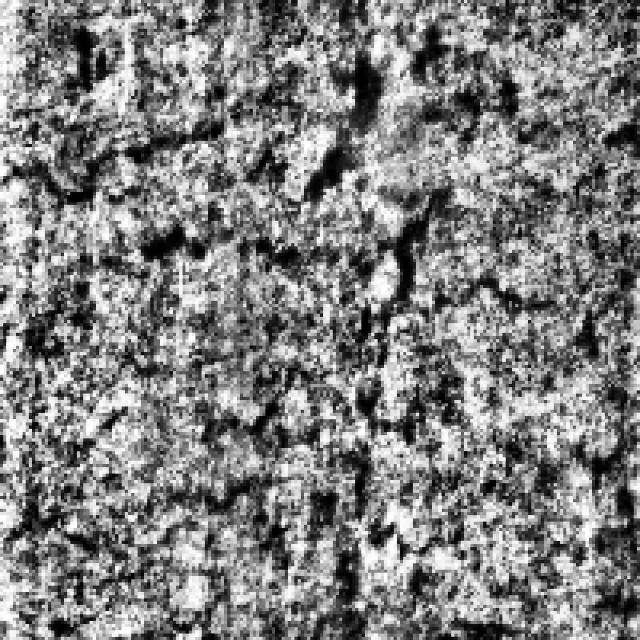Pitted_Surface: (22, 83, 548, 349), (156, 364, 468, 634)
